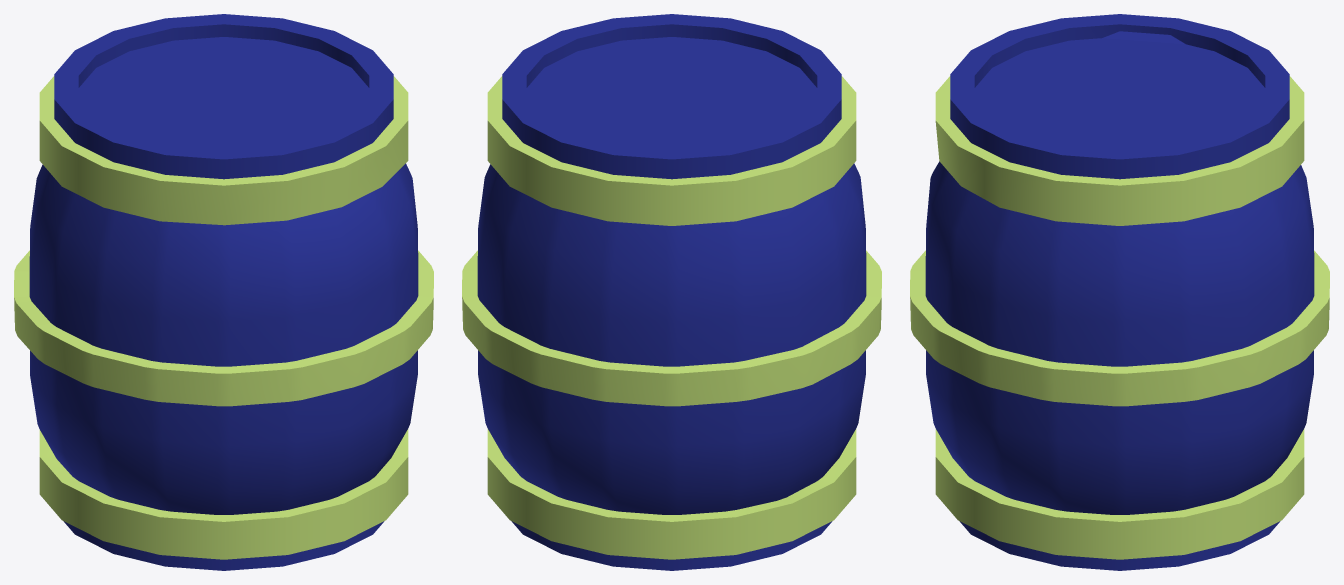
Rendered from mesh_tonneau.fbx.
3 views of the same model, side by side, from view 1: azimuth 30°, elevation 25°; view 2: azimuth 150°, elevation 25°; view 3: azimuth 270°, elevation 25° (orthographic).
Visible parts, largest first — view 1: Cylinder131; view 2: Cylinder131; view 3: Cylinder131.
Boxes of the visible parts, x1=… form: Cylinder131: x1=14, y1=14, x2=433, y2=570; Cylinder131: x1=462, y1=14, x2=881, y2=570; Cylinder131: x1=910, y1=14, x2=1329, y2=570.
Size of the model in its own units: 91.57 by 98.13 by 90.72.
